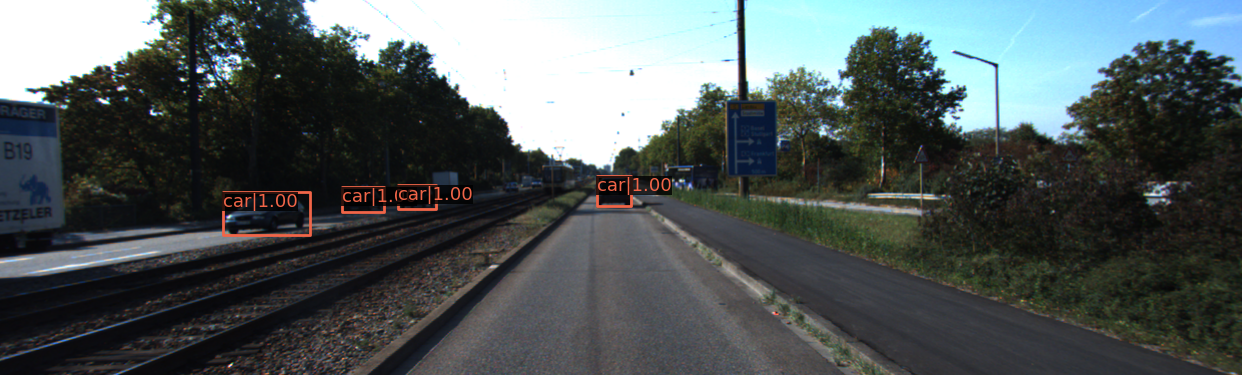car: (223, 193, 310, 236), (343, 190, 385, 213), (398, 187, 437, 211), (598, 179, 629, 209)
